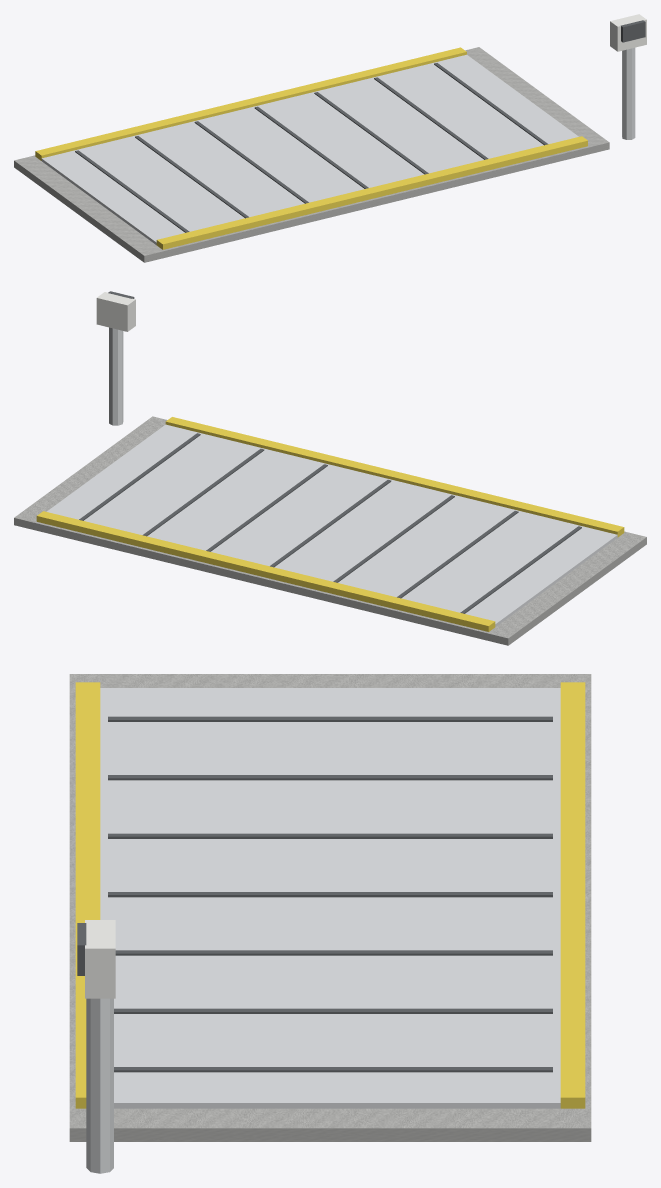
Rendered from fish-market-and-trawler-quay-fish-market-and-trawler-q-87b57c9b__37277.glb.
3 views of the same model, one above another, from view 1: azimuth 30°, elevation 25°; view 2: azimuth 150°, elevation 25°; view 3: azimuth 270°, elevation 25° (orthographic). The views are drawn at different scales.
Visible parts, largest first — view 1: fish-market-and-trawler-quay-weighbridge-plate; view 2: fish-market-and-trawler-quay-weighbridge-plate; view 3: fish-market-and-trawler-quay-weighbridge-plate.
Boxes of the visible parts, bbox=[...] form: fish-market-and-trawler-quay-weighbridge-plate: bbox=[14, 14, 646, 262]; fish-market-and-trawler-quay-weighbridge-plate: bbox=[14, 291, 646, 645]; fish-market-and-trawler-quay-weighbridge-plate: bbox=[69, 674, 591, 1173].
Bounding box in the file's own units: 7.62 × 1.68 × 3.4.
5 materials, 1 textured.
